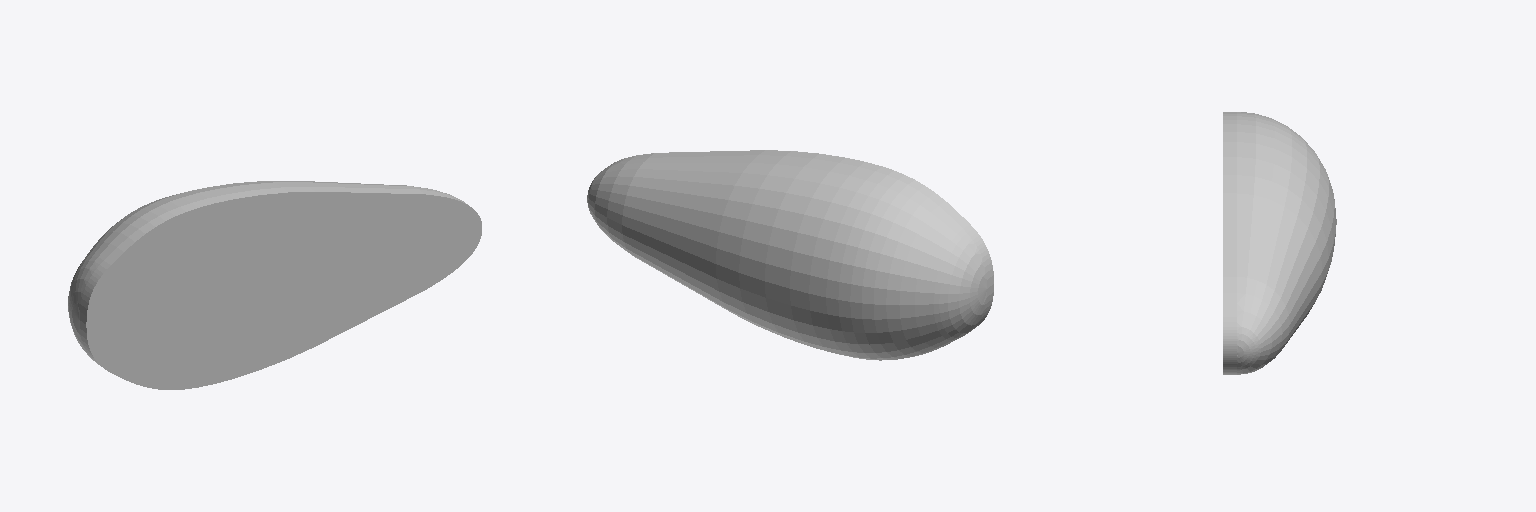
The model's file is under_anticollision_light.obj.
The picture shows the model from 3 angles: view 1: azimuth 30°, elevation 25°; view 2: azimuth 150°, elevation 25°; view 3: azimuth 270°, elevation 25°; orthographic projection.
Visible parts, largest first — view 1: base (Meshed), glass (Meshed); view 2: glass (Meshed), base (Meshed); view 3: glass (Meshed), base (Meshed).
Boxes of the visible parts, <box> form: base (Meshed): <box>80,187,481,389</box>; glass (Meshed): <box>68,181,451,357</box>; glass (Meshed): <box>587,155,986,360</box>; base (Meshed): <box>605,150,993,328</box>; glass (Meshed): <box>1237,112,1336,374</box>; base (Meshed): <box>1223,112,1236,374</box>.
Bounding box in the file's own units: 100 × 43.61 × 24.81.